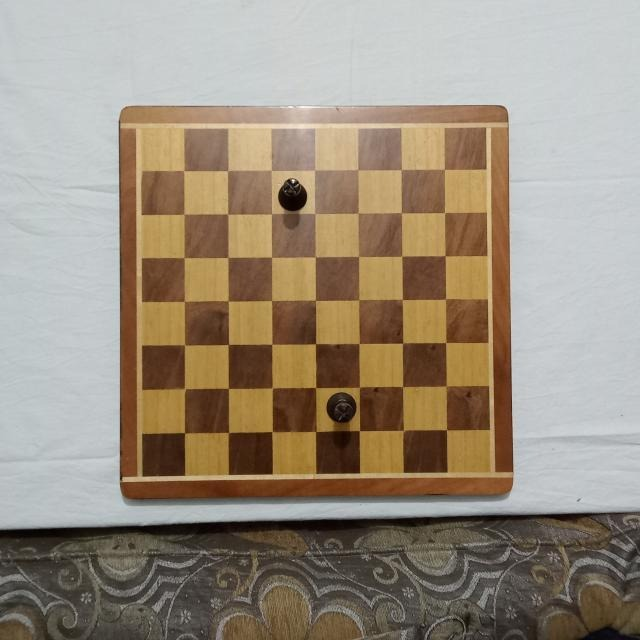black-rook: (278, 179, 310, 213), (325, 392, 358, 424)
